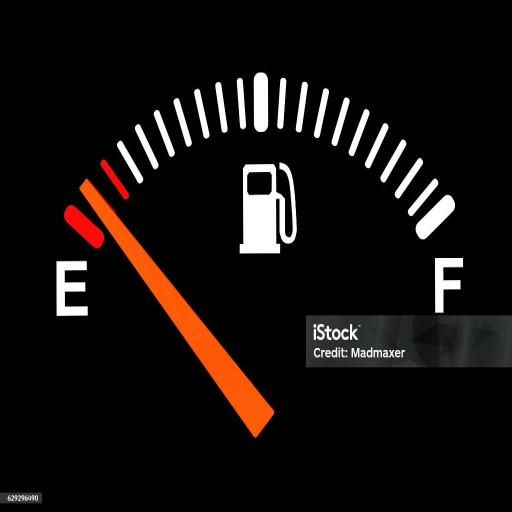empty: (58, 258, 90, 320)
fuel_icon: (235, 161, 299, 254)
full: (429, 256, 469, 316)
guage_area: (50, 70, 478, 462)
needle_center: (224, 367, 300, 449)
needle_tip: (75, 176, 107, 209)
